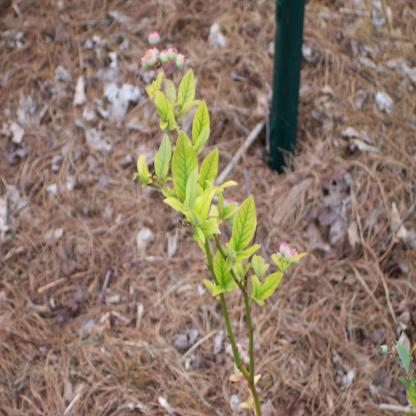blueberry leaf: (231, 179, 261, 265), (172, 127, 201, 210), (150, 127, 179, 188), (188, 100, 215, 159), (214, 244, 240, 300), (201, 142, 223, 206), (174, 61, 195, 127)
